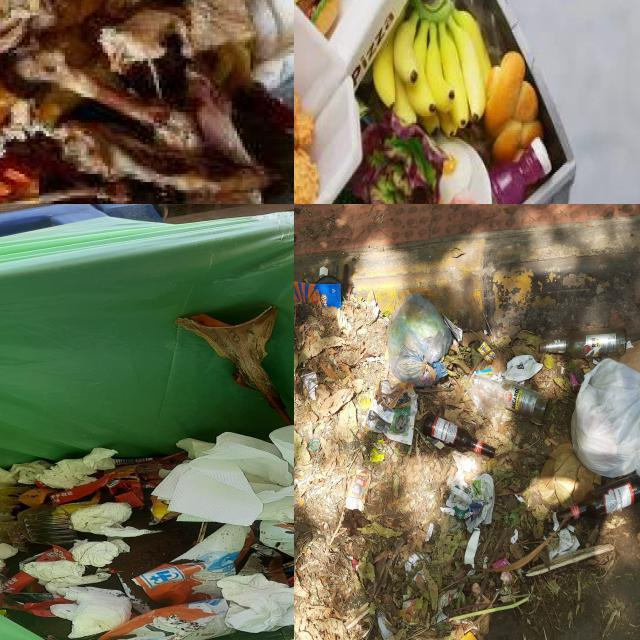Cig_pack: (346, 468, 371, 511)
Disposable: (18, 502, 89, 545), (405, 553, 429, 573), (413, 569, 425, 582)
Garbage: (294, 267, 640, 640), (0, 425, 294, 640), (294, 0, 557, 204)
Glass_bottle: (556, 474, 640, 522), (473, 375, 551, 424), (423, 413, 495, 458), (540, 328, 627, 358)
Mask: (378, 611, 397, 640)
Plastic_Bag: (133, 525, 251, 607), (571, 358, 640, 477), (387, 295, 451, 388), (98, 599, 234, 640), (468, 386, 503, 431), (500, 355, 543, 382)
Plastic_wraper: (0, 593, 71, 616), (260, 521, 294, 558), (294, 281, 342, 307), (106, 479, 145, 507), (148, 496, 180, 525), (570, 373, 581, 393), (369, 448, 384, 462), (474, 368, 494, 377), (352, 558, 359, 571), (378, 438, 384, 444)
Tetrapack: (477, 340, 495, 362)
contaminated_waste: (294, 6, 362, 204), (455, 138, 490, 204)
